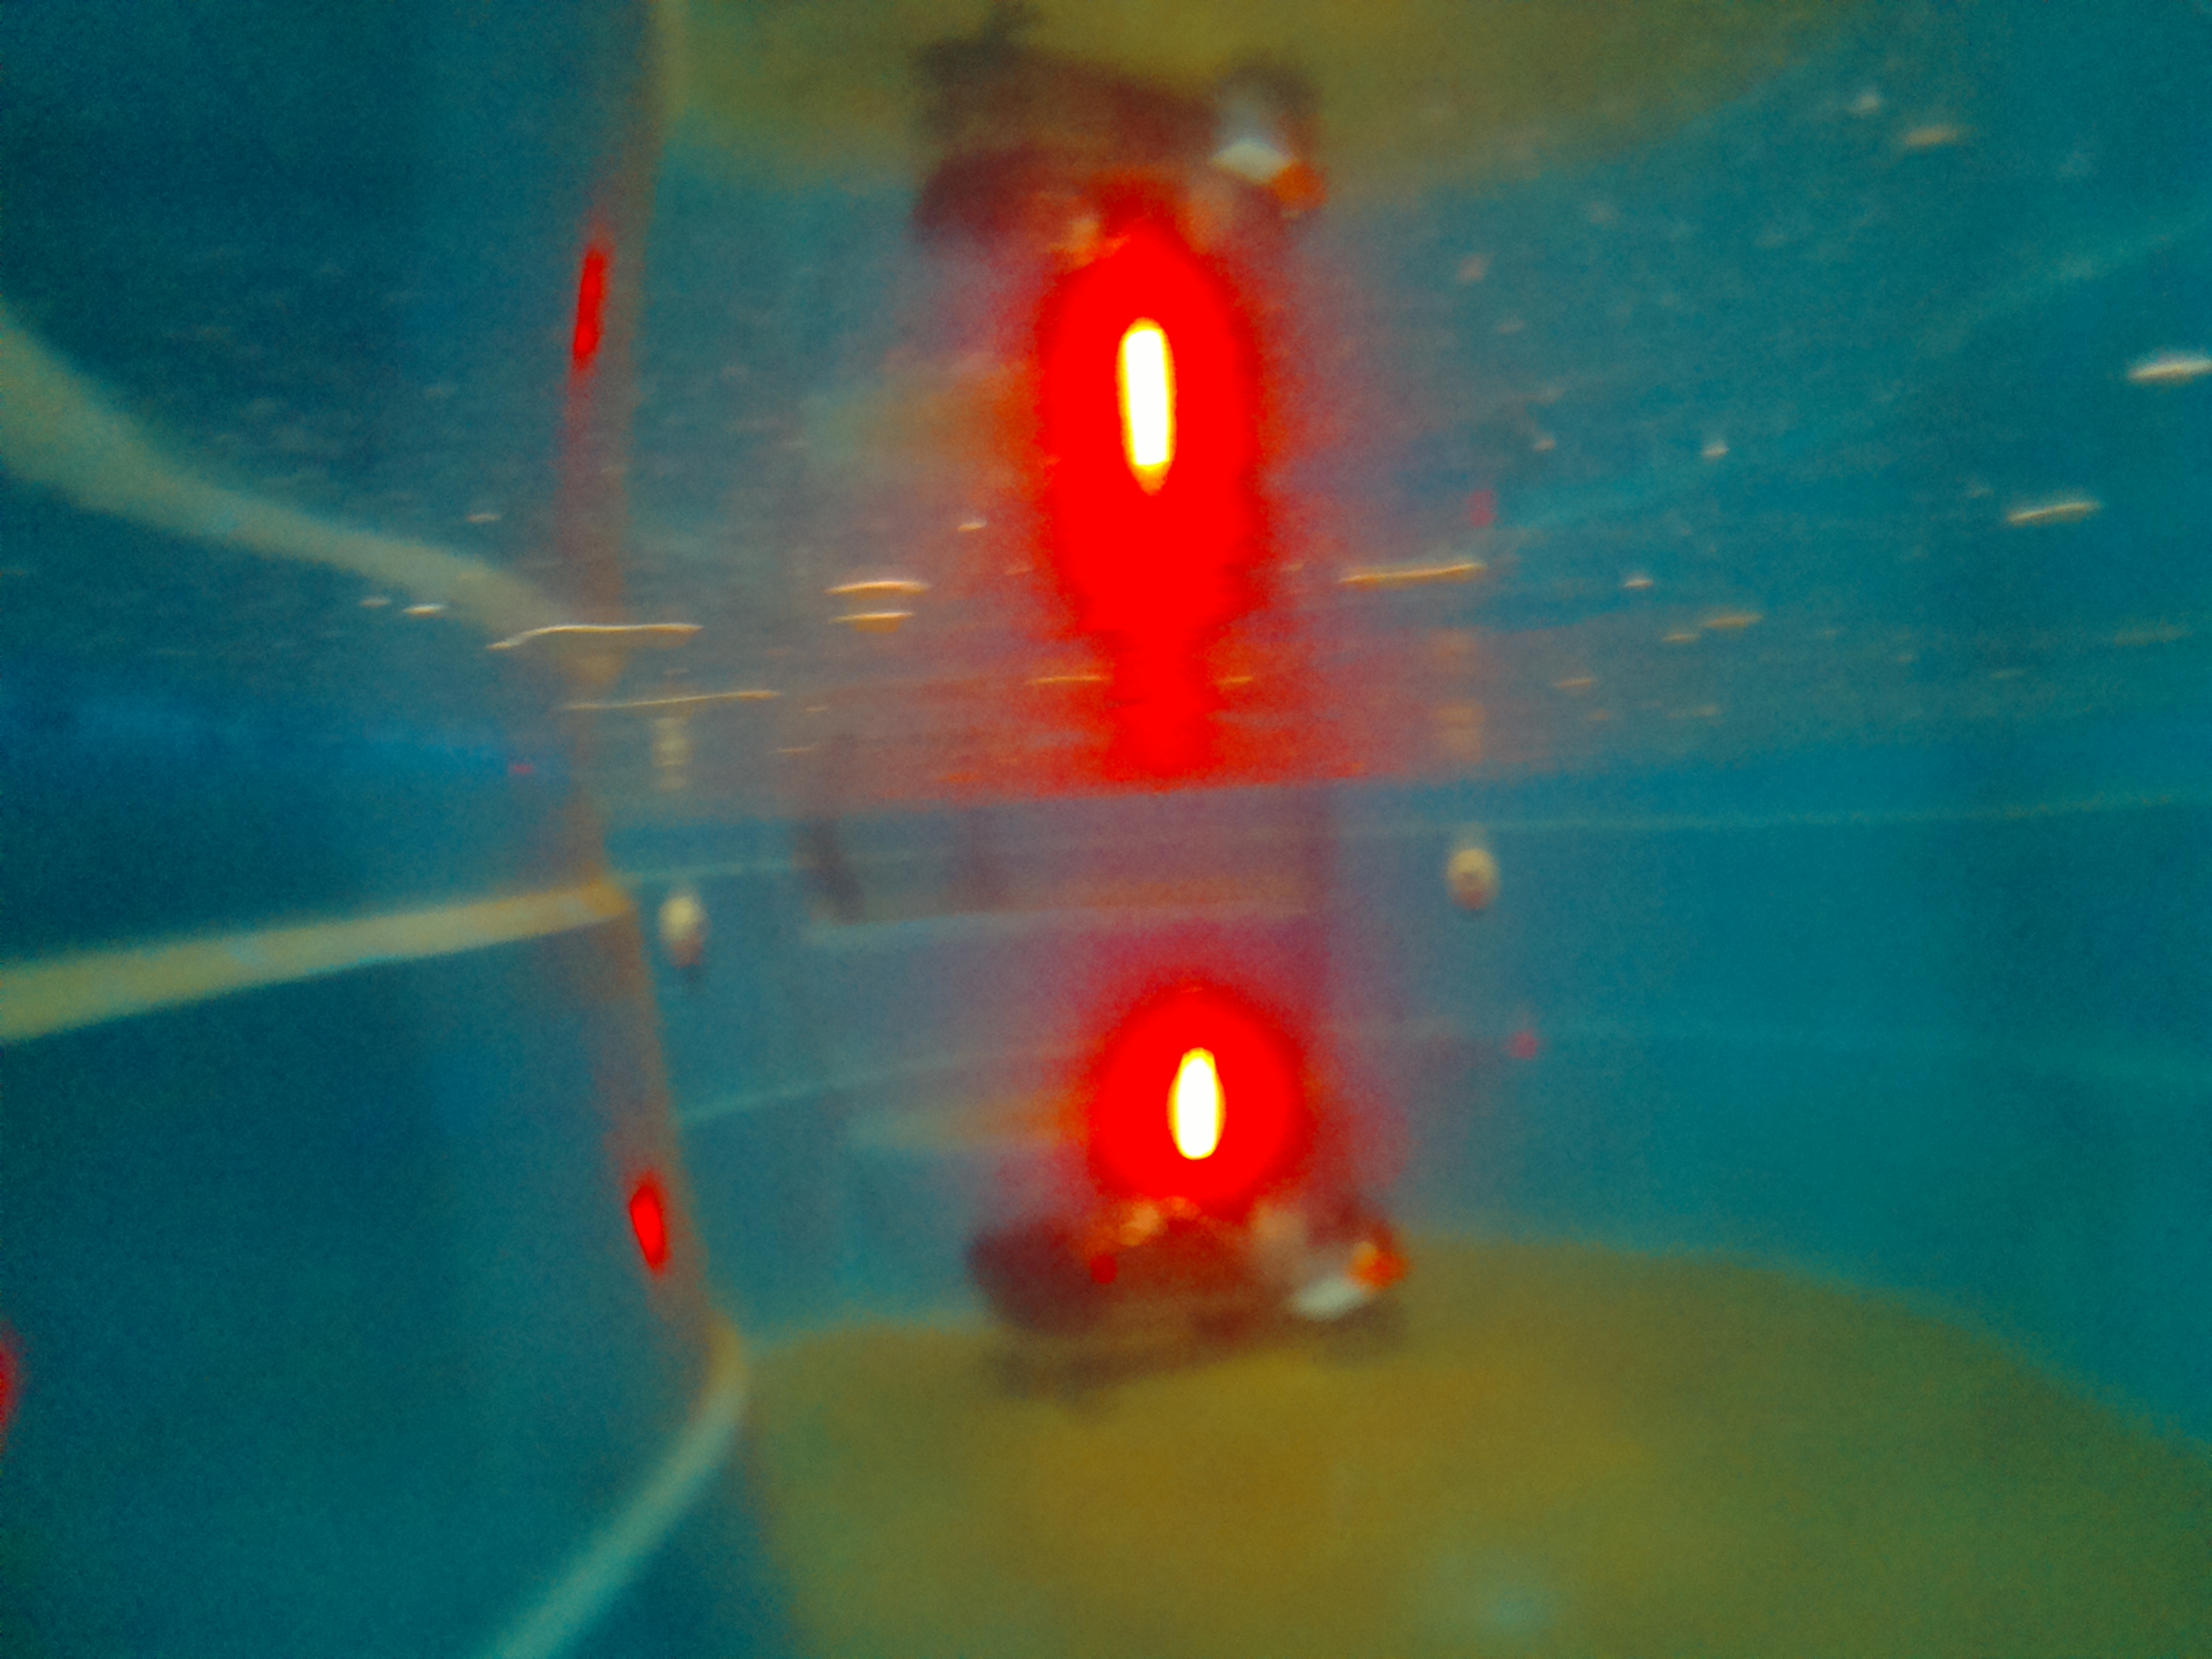red: (1153, 1037, 1237, 1202)
